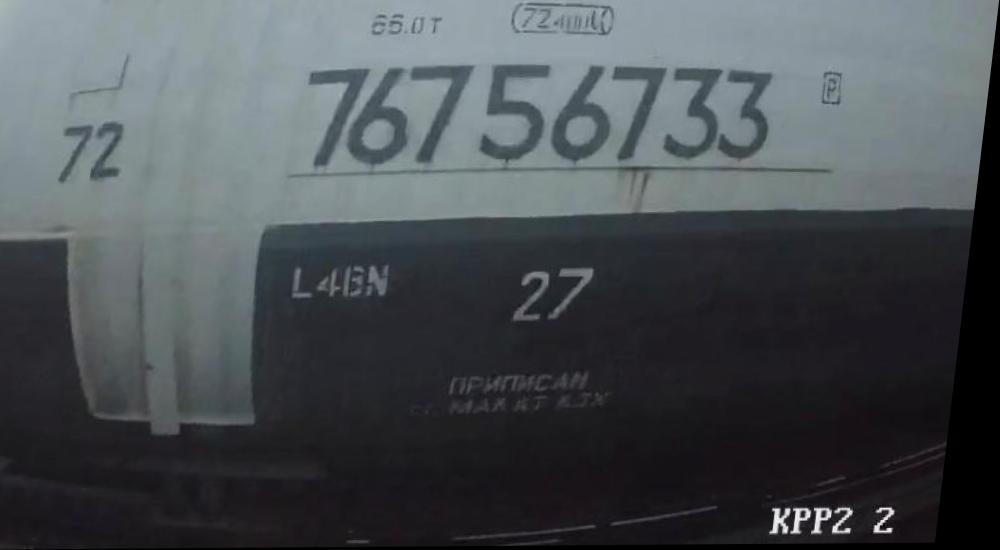Wagon-number: (297, 52, 786, 172)
